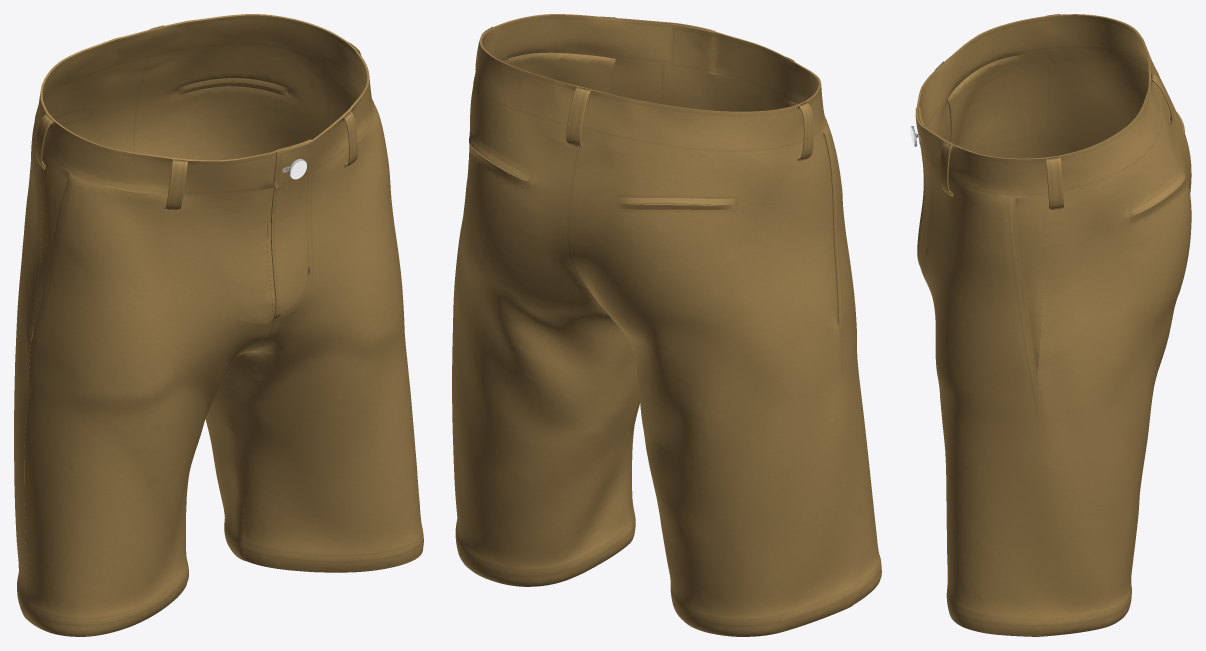
The model's file is school_blazer_suit.glb.
The picture shows the model from 3 angles, left to right: view 1: azimuth 30°, elevation 25°; view 2: azimuth 150°, elevation 25°; view 3: azimuth 270°, elevation 25°; orthographic projection. The views are drawn at different scales.
Parts seen in each view (by area): view 1: Men Suit Short Pant_W_Twill_98 Ctn 2Spa_260GSM_H_DF22018_FRO (×2); view 2: Men Suit Short Pant_W_Twill_98 Ctn 2Spa_260GSM_H_DF22018_FRO (×2); view 3: Men Suit Short Pant_W_Twill_98 Ctn 2Spa_260GSM_H_DF22018_FRO (×2).
Part boxes in pixels (x1,y1,x2,y2): Men Suit Short Pant_W_Twill_98 Ctn 2Spa_260GSM_H_DF22018_FRO (×2): (14,14,423,636); Men Suit Short Pant_W_Twill_98 Ctn 2Spa_260GSM_H_DF22018_FRO (×2): (452,14,881,636); Men Suit Short Pant_W_Twill_98 Ctn 2Spa_260GSM_H_DF22018_FRO (×2): (915,14,1191,636).
Bounding box in the file's own units: 0.4037 × 0.5176 × 0.271.
Materials: 2 (2 with a texture image).
